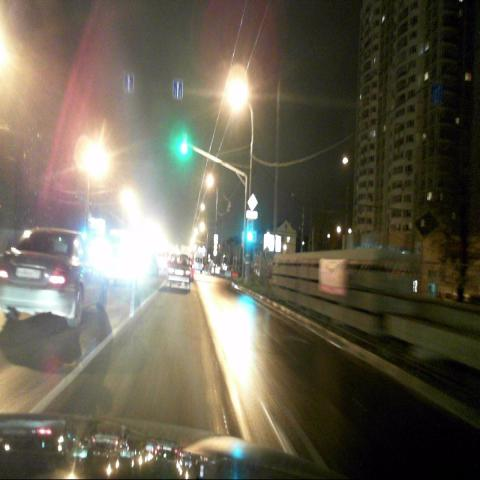5_15_2: (430, 82, 442, 103)
